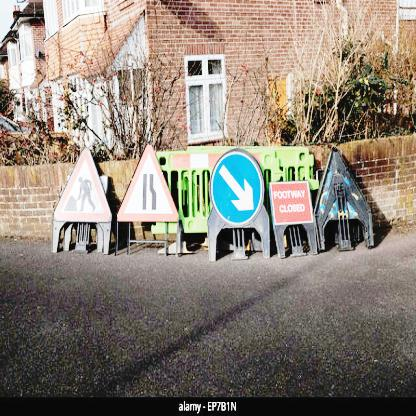Keep right: (210, 147, 267, 229)
